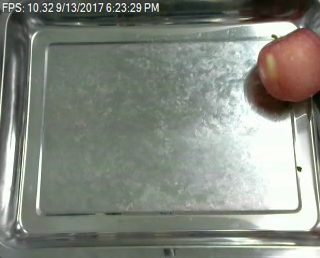Apple: (252, 24, 320, 104)
